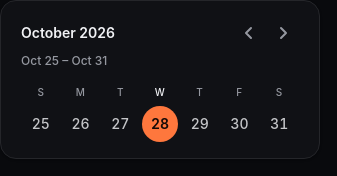
Scenario: WeekStripCalendar › moves a week at a time with the arrows
Click the button named "Next week" at (283, 33), box [267, 17, 299, 49]
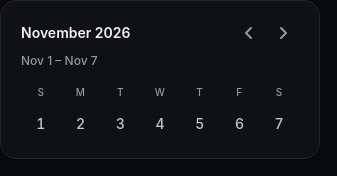
expect the text "Nov 1 – Nov 7" is shown: met, box [21, 53, 98, 68]
Click the button named "Previous week" at (249, 33), box [233, 17, 265, 49]
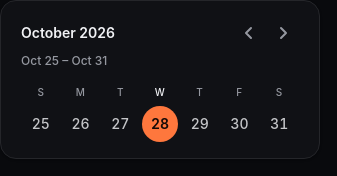
Click the button named "Previous week" at (249, 33), box [233, 17, 265, 49]
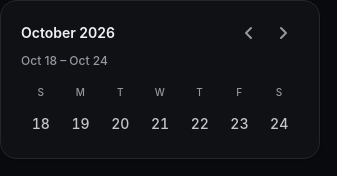
expect the text "Oct 18 – Oct 24" is shown: met, box [21, 53, 108, 68]
